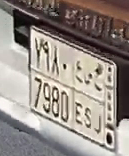0: (60, 61, 70, 124)
7: (32, 37, 43, 109)
8: (51, 45, 61, 119)
9: (41, 41, 52, 115)
E: (74, 59, 85, 125)
J: (92, 68, 105, 136)
S: (84, 71, 94, 130)
